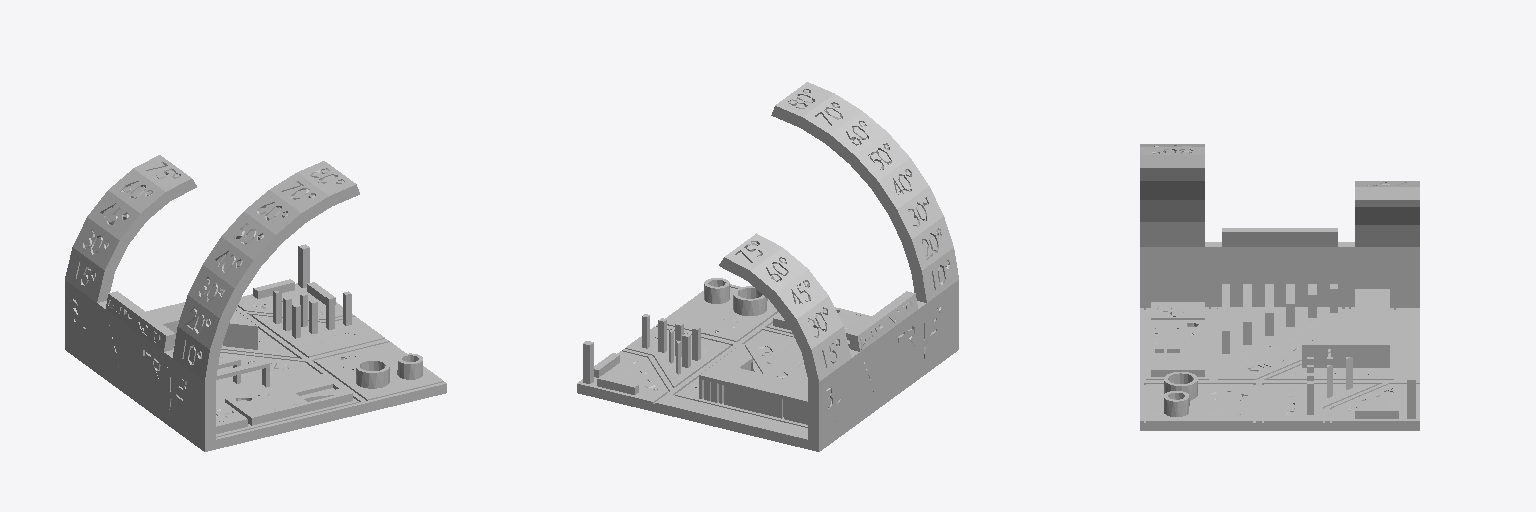
File: prova11.obj
3 views of the same model, side by side, from view 1: azimuth 30°, elevation 25°; view 2: azimuth 150°, elevation 25°; view 3: azimuth 270°, elevation 25° (orthographic).
Size of the model in its own units: 65.01 by 59.13 by 65.